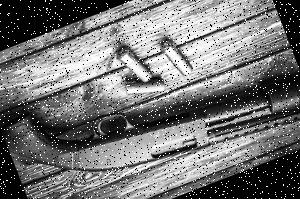shotgun: (0, 67, 300, 179)
